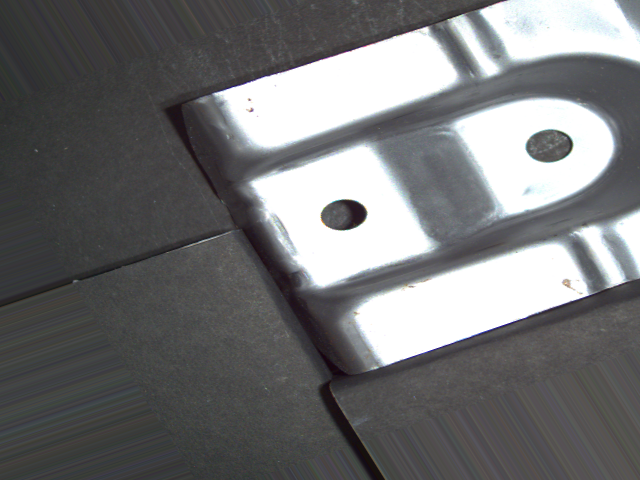defect: (522, 127, 577, 164)
